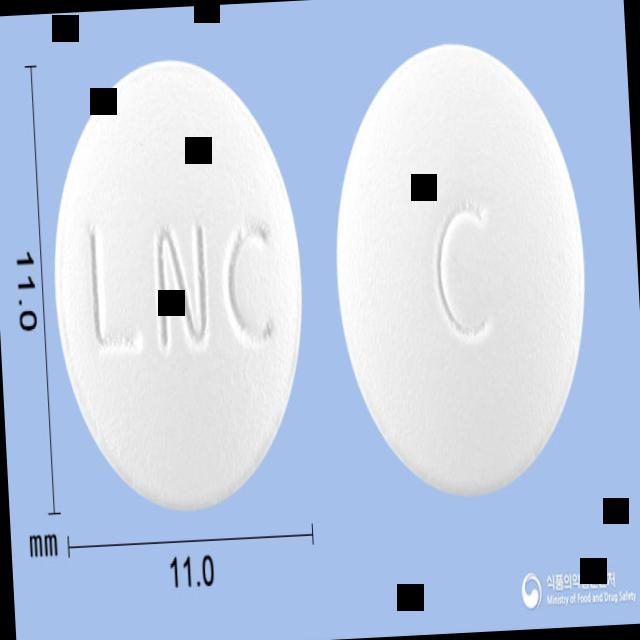Claniz - 500mg: (326, 36, 596, 503), (44, 52, 314, 518)
